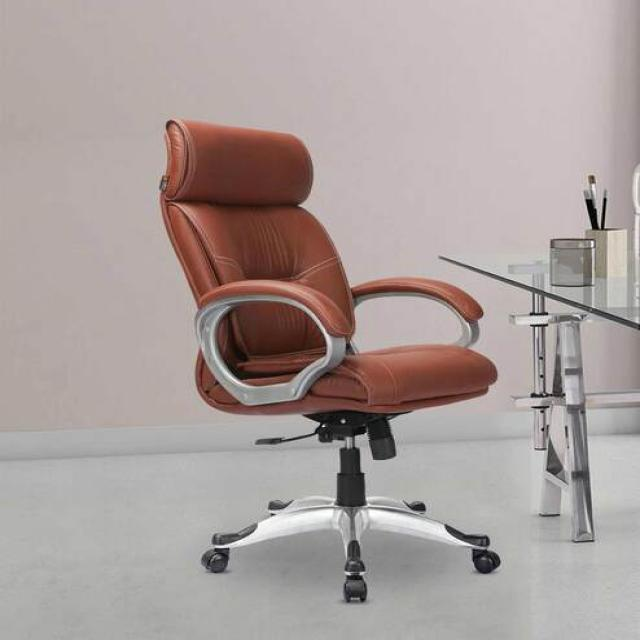chair: (95, 68, 548, 616)
